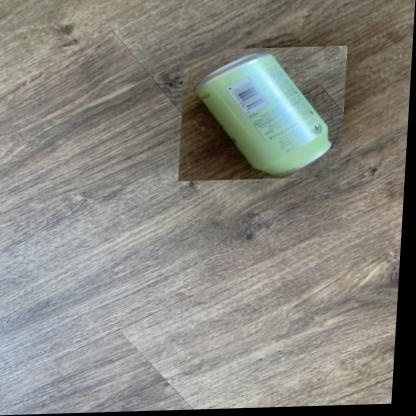trash: (196, 53, 330, 175)
